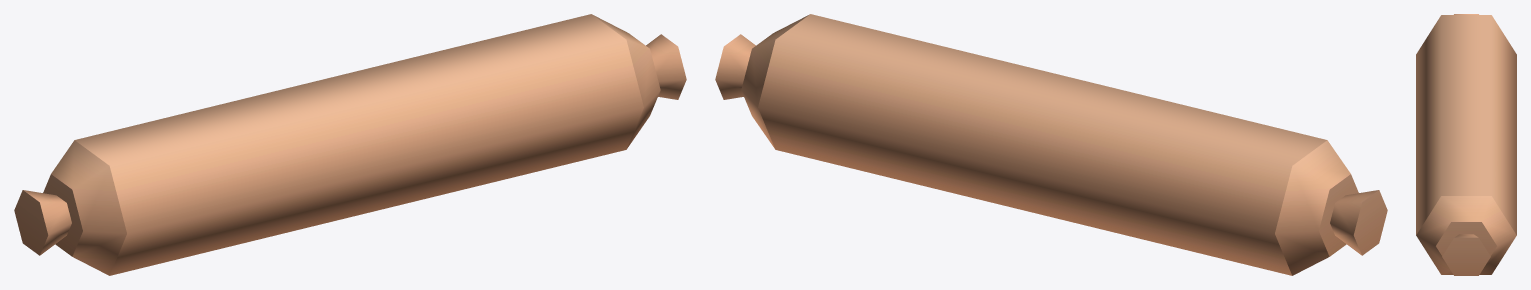
File: hot-dog-raw.glb
3 views of the same model, side by side, from view 1: azimuth 30°, elevation 25°; view 2: azimuth 150°, elevation 25°; view 3: azimuth 270°, elevation 25° (orthographic). The views are drawn at different scales.
Parts seen in each view (by area): view 1: hot-dog-raw; view 2: hot-dog-raw; view 3: hot-dog-raw.
Boxes of the visible parts, x1,y1,x2,y2 form: hot-dog-raw: [14, 14, 686, 275]; hot-dog-raw: [715, 14, 1387, 275]; hot-dog-raw: [1416, 14, 1516, 275].
Bounding box in the file's own units: 0.5859 × 0.0966 × 0.1116.
Materials: 1 (1 with a texture image).
